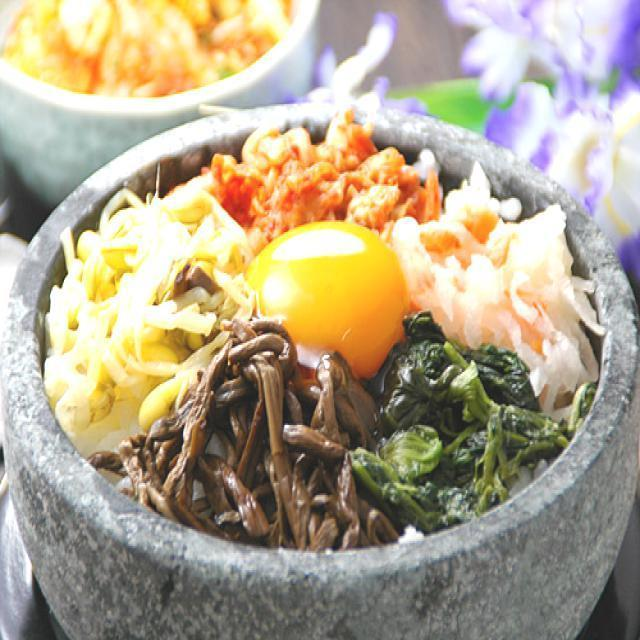bibimbap: (0, 97, 639, 638)
